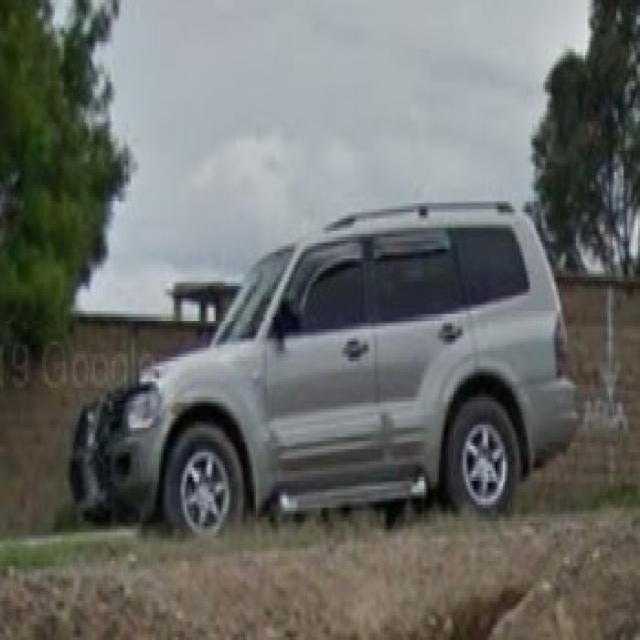Car: (72, 205, 568, 539)
